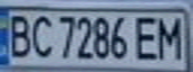2: (72, 12, 93, 60)
6: (109, 14, 133, 61)
7: (54, 11, 75, 60)
8: (90, 14, 112, 61)
B: (3, 11, 33, 58)
C: (27, 11, 57, 60)
E: (130, 12, 163, 61)
M: (154, 14, 187, 61)
